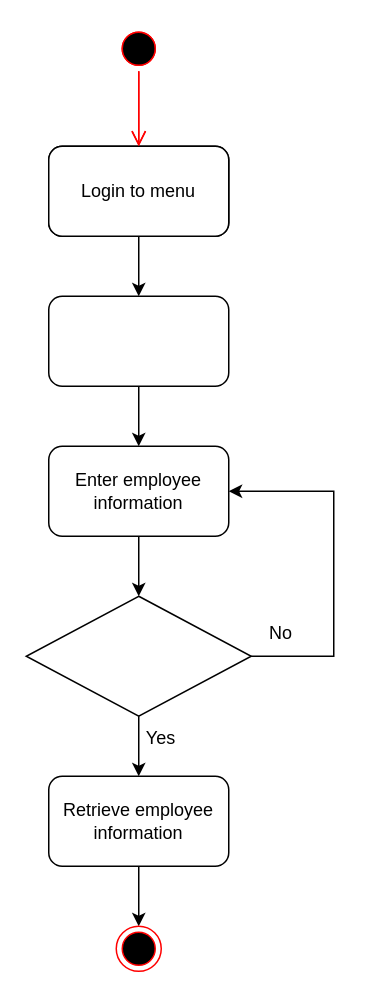
The diagram is 372 pixels wide and 998 high, and some of its shapes have lost their labels. The shapes that lost their labels are listed below. From the top down, each one's centre as x and y in pixels, then its label:
At [138,340]: "Access database containing employee information".
At [138,655]: "Is the employee information correct?".
